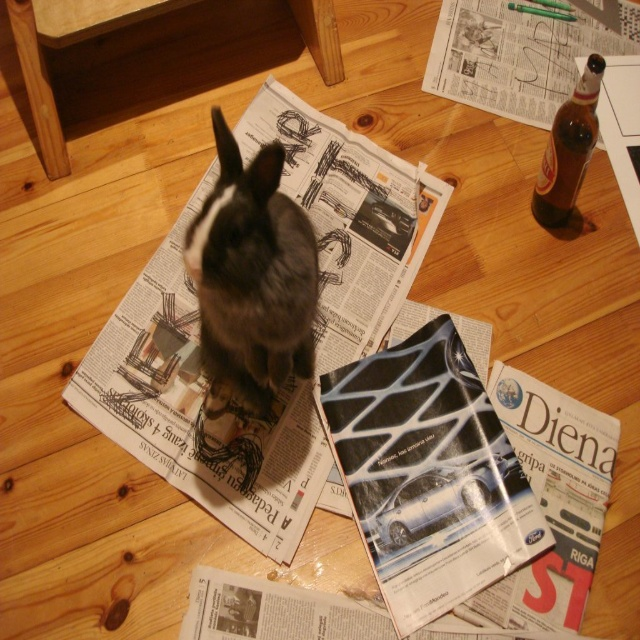Rabbit: (182, 103, 322, 411)
